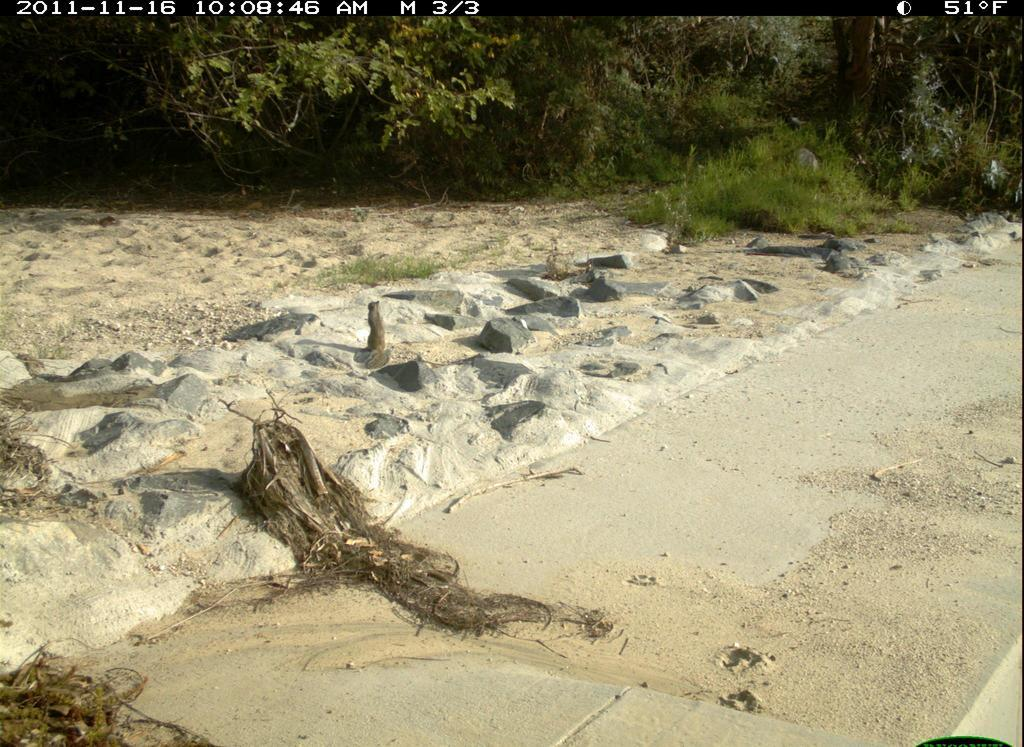squirrel: (362, 297, 390, 374)
